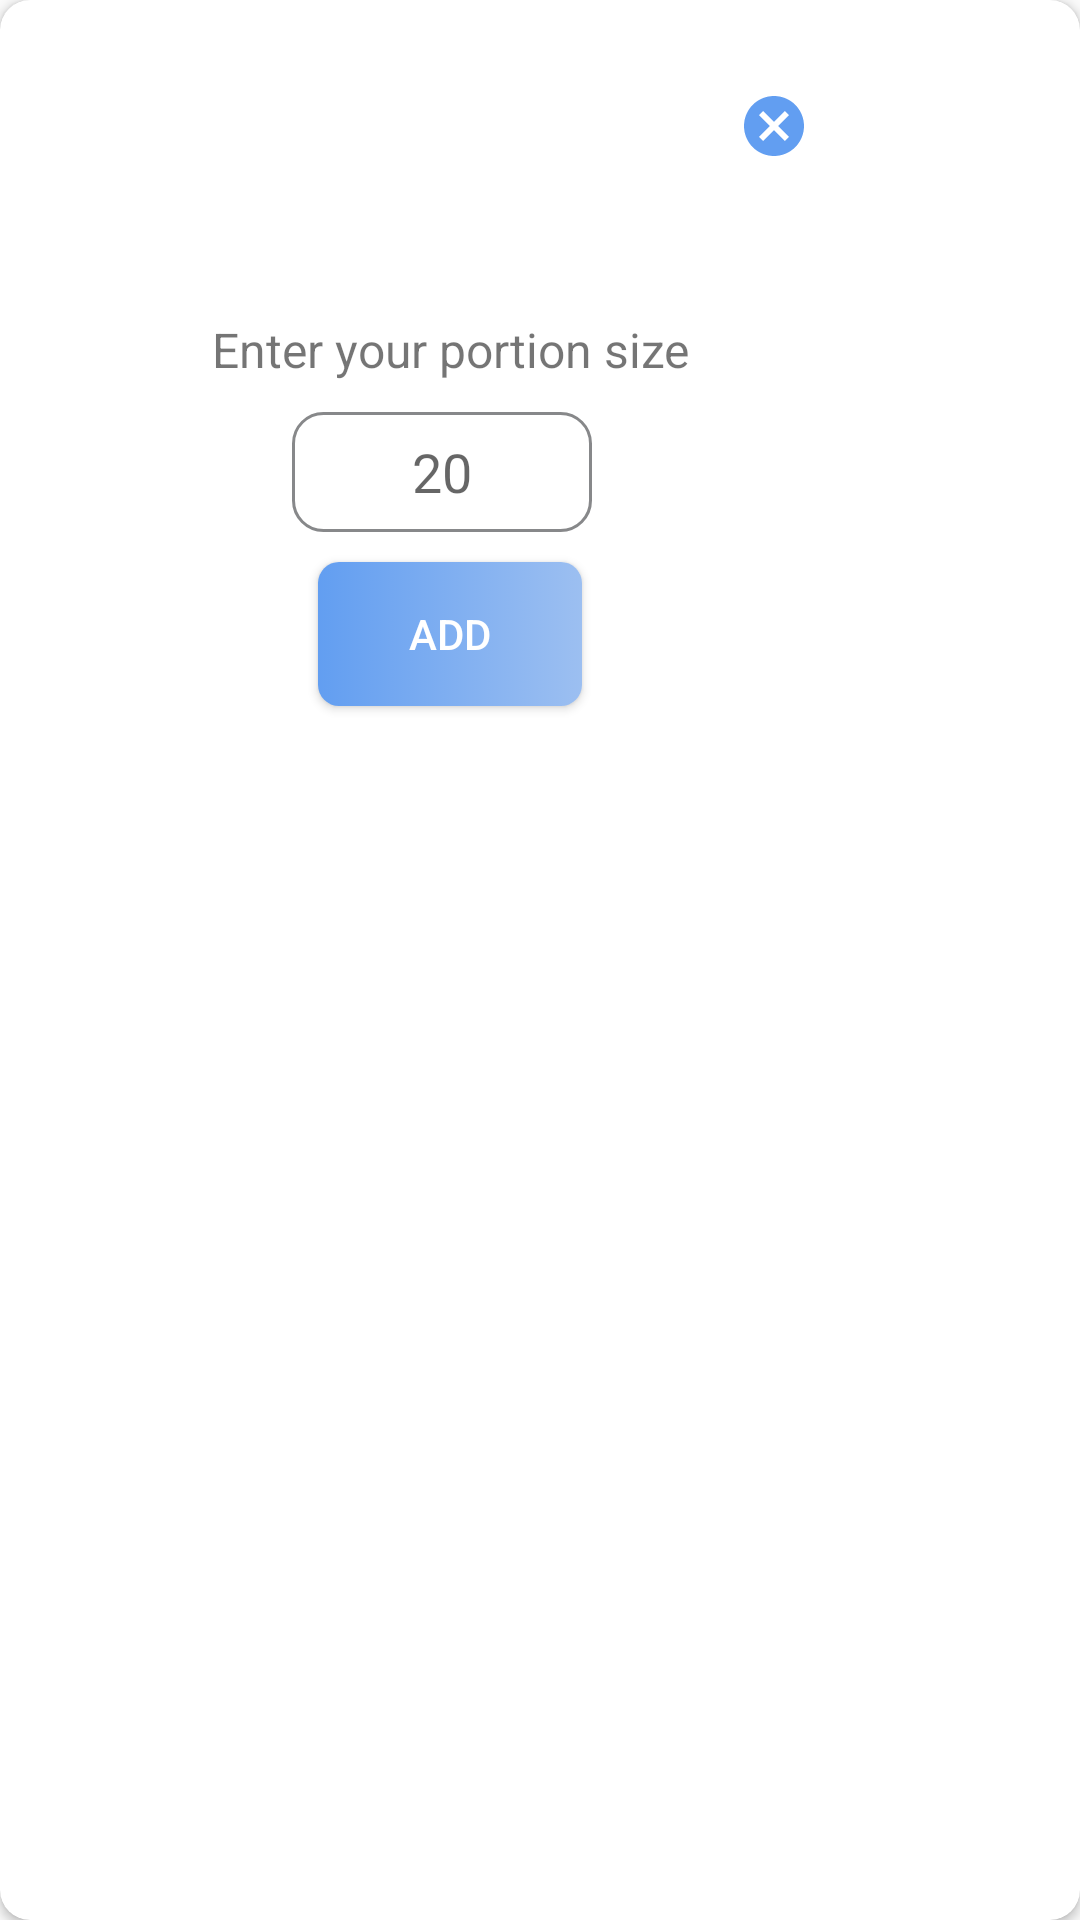

Screen size 1080w x 1920h. Icon name, then its box in pixels as (left=x1, top=y1, right=x2, bottom=y2):
Cancel: (left=744, top=96, right=804, bottom=156)
